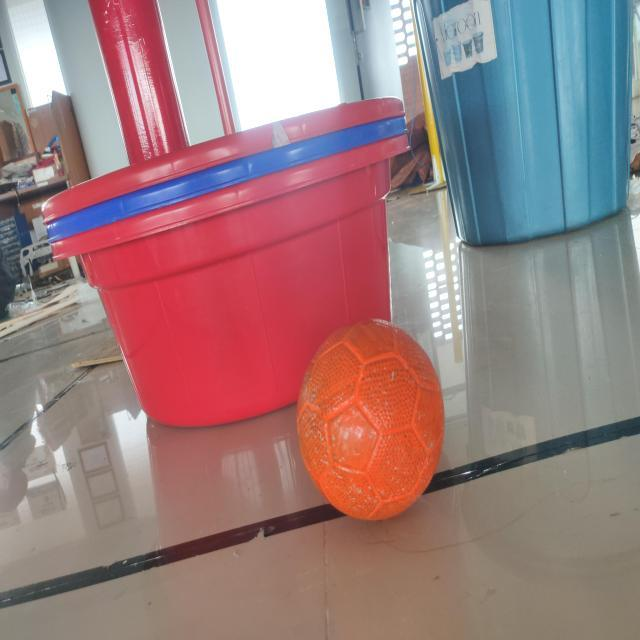bola: (293, 318, 448, 528)
